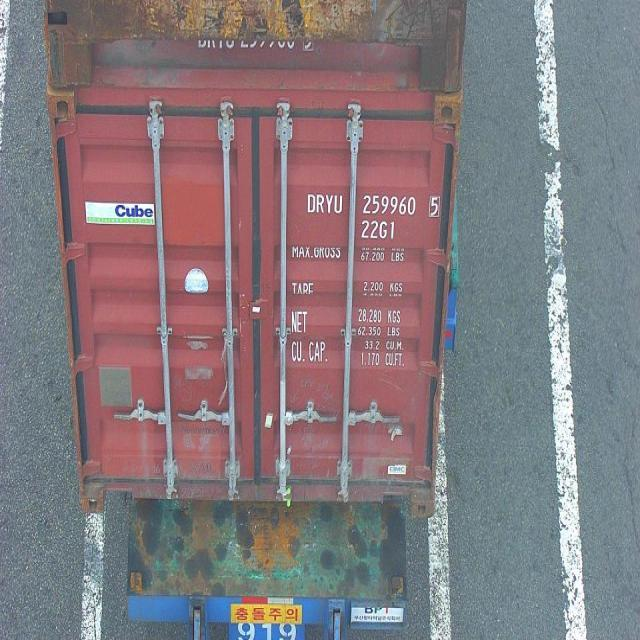ISO: (360, 220, 398, 240)
container_number: (307, 193, 438, 216)
